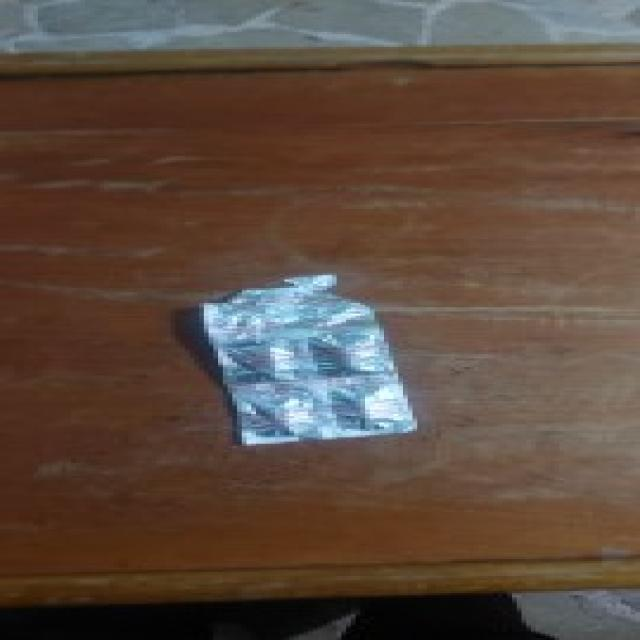Cacat: (192, 268, 424, 448)
Kemasan: (202, 272, 374, 325)
